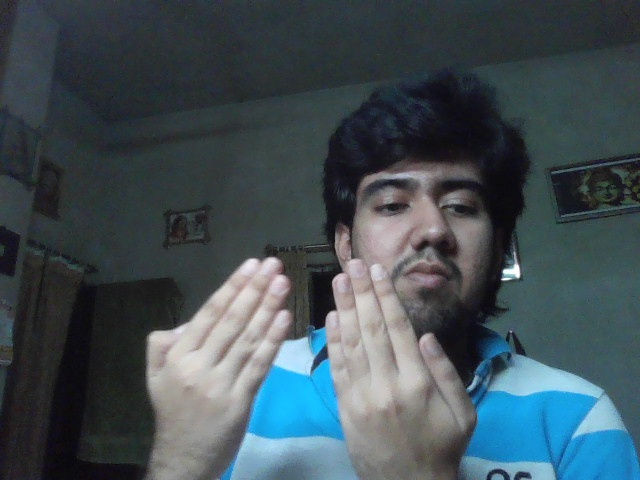ThankYou: (146, 257, 476, 480)
